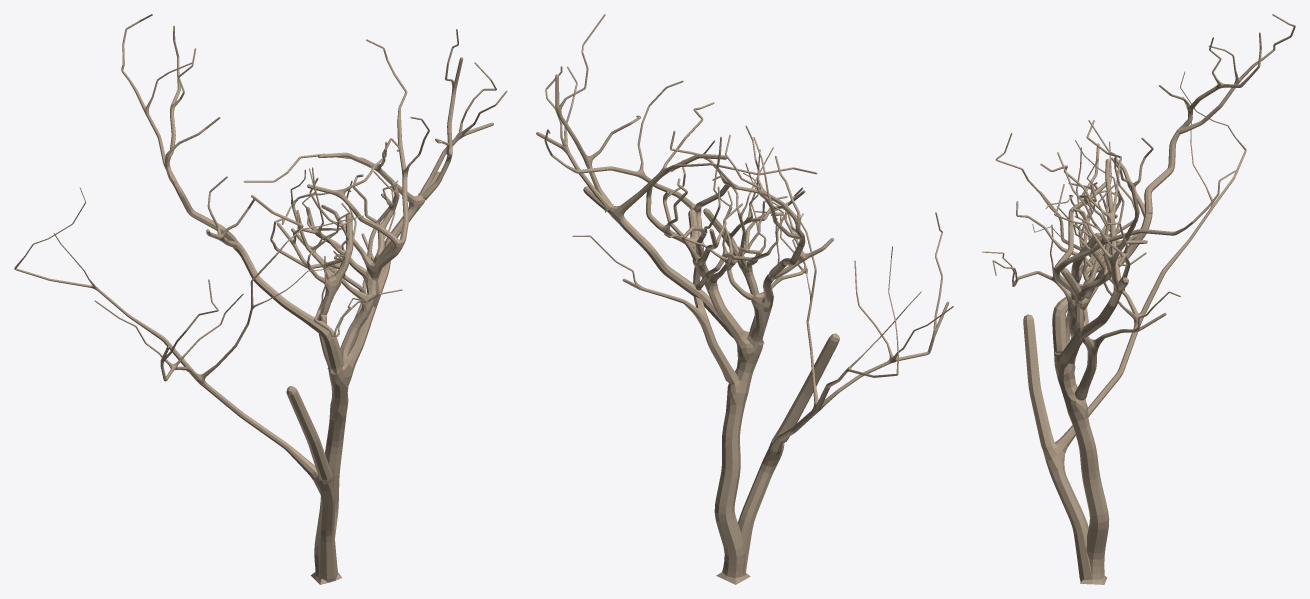
3 views of the same model, side by side, from view 1: azimuth 30°, elevation 25°; view 2: azimuth 150°, elevation 25°; view 3: azimuth 270°, elevation 25° (orthographic). The views are drawn at different scales.
Parts seen in each view (by area): view 1: Arbusto; view 2: Arbusto; view 3: Arbusto.
Boxes of the visible parts, bbox=[...] form: Arbusto: bbox=[14, 14, 507, 584]; Arbusto: bbox=[536, 14, 953, 584]; Arbusto: bbox=[982, 14, 1295, 584].
Size of the model in its own units: 2.76 by 3.28 by 1.78.
